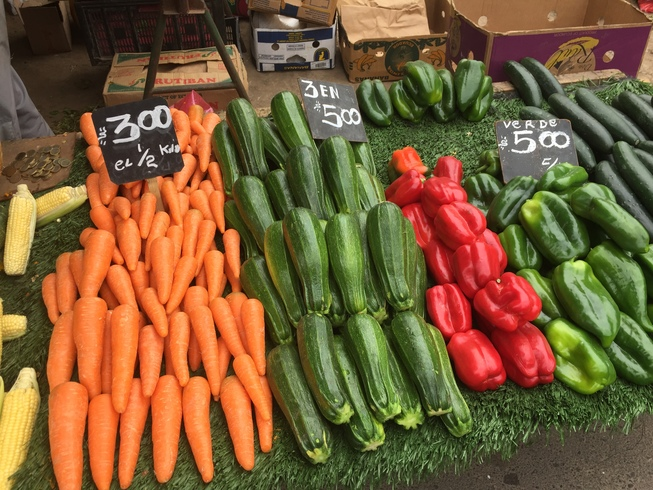precio: (89, 92, 191, 185), (491, 114, 586, 197), (294, 72, 379, 149)
